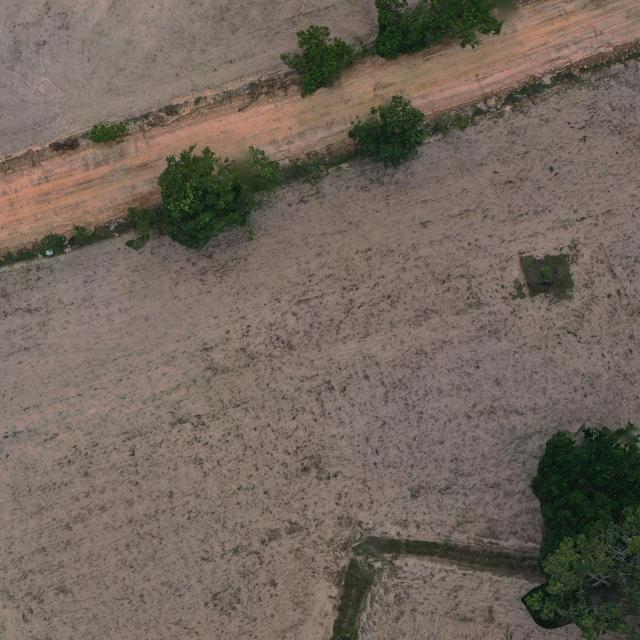tree: (530, 419, 640, 570), (524, 505, 640, 640), (155, 143, 255, 252), (374, 0, 502, 61), (346, 94, 428, 170), (280, 24, 356, 100), (246, 144, 282, 182)
